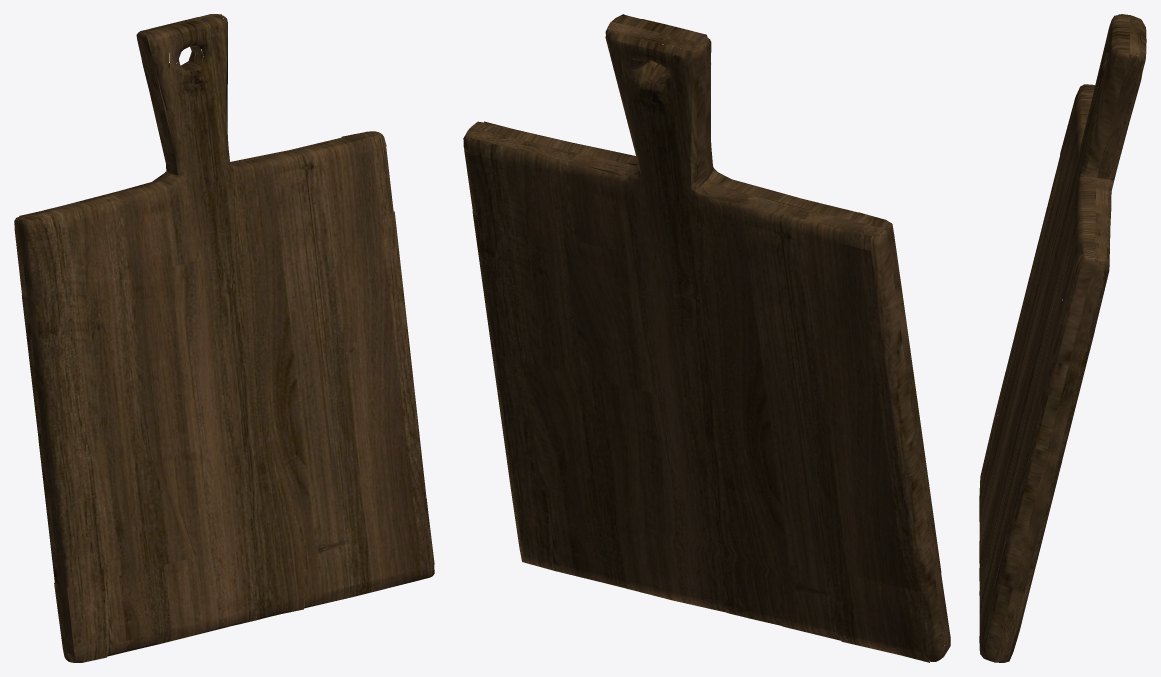
Rendered from cutting_board_2.glb.
3 renders of one model, left to right at view 1: azimuth 30°, elevation 25°; view 2: azimuth 150°, elevation 25°; view 3: azimuth 270°, elevation 25°, orthographic. The views are drawn at different scales.
Visible parts, largest first — view 1: CuttingBoard2; view 2: CuttingBoard2; view 3: CuttingBoard2.
Part boxes in pixels (x1=…): CuttingBoard2: x1=14, y1=14, x2=434, y2=662; CuttingBoard2: x1=463, y1=14, x2=950, y2=662; CuttingBoard2: x1=979, y1=14, x2=1146, y2=662.
Size of the model in its own units: 0.1903 by 0.2764 by 0.0765.
Materials: 1 (1 with a texture image).
